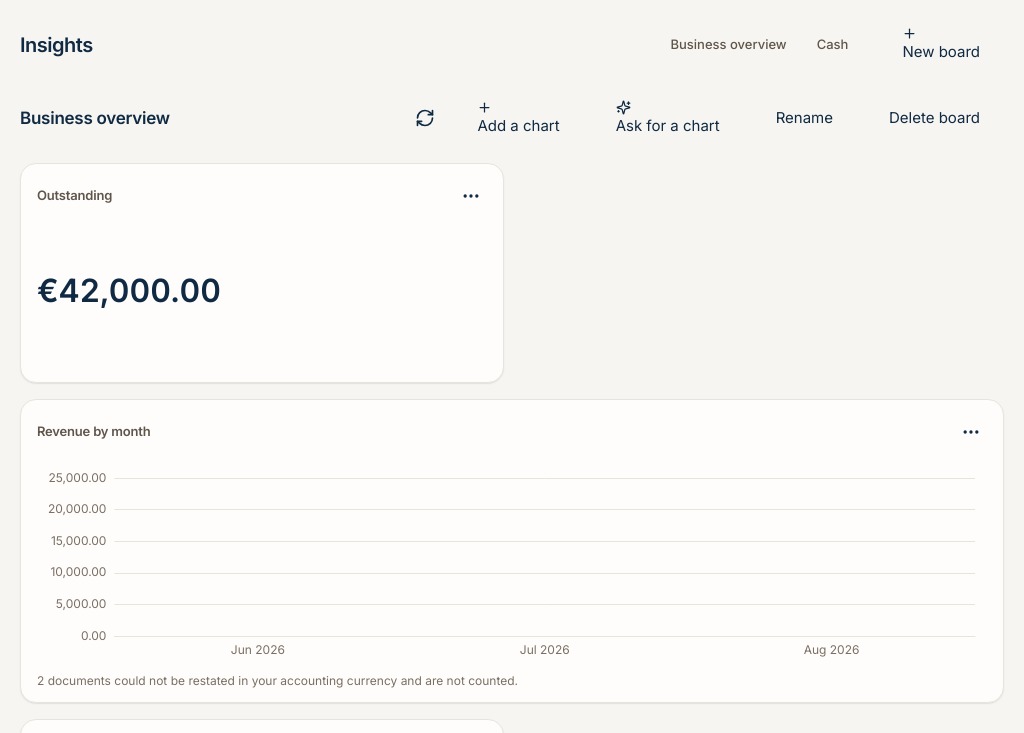
Test: the ask › a question that could not be charted says so, with nothing drawn
The image size is (1024, 733).
expect the text "€42,000.00" is shown: met, box [37, 273, 221, 309]
Step 1. Click the button "Ask for a chart" → point(668, 118), box [592, 90, 744, 147]
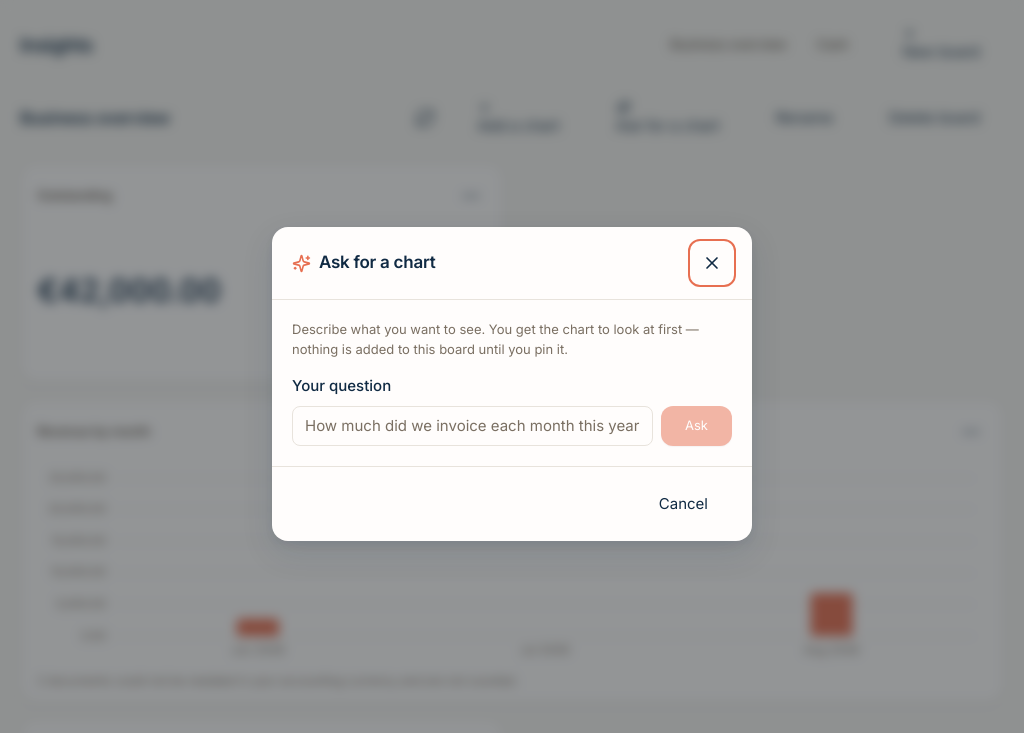
expect the dialog is shown: met, box [272, 227, 752, 541]
Step 2. Type "what is the weather tomorrow?" into the field labelled "Your question" → point(472, 426), box [292, 406, 653, 446]
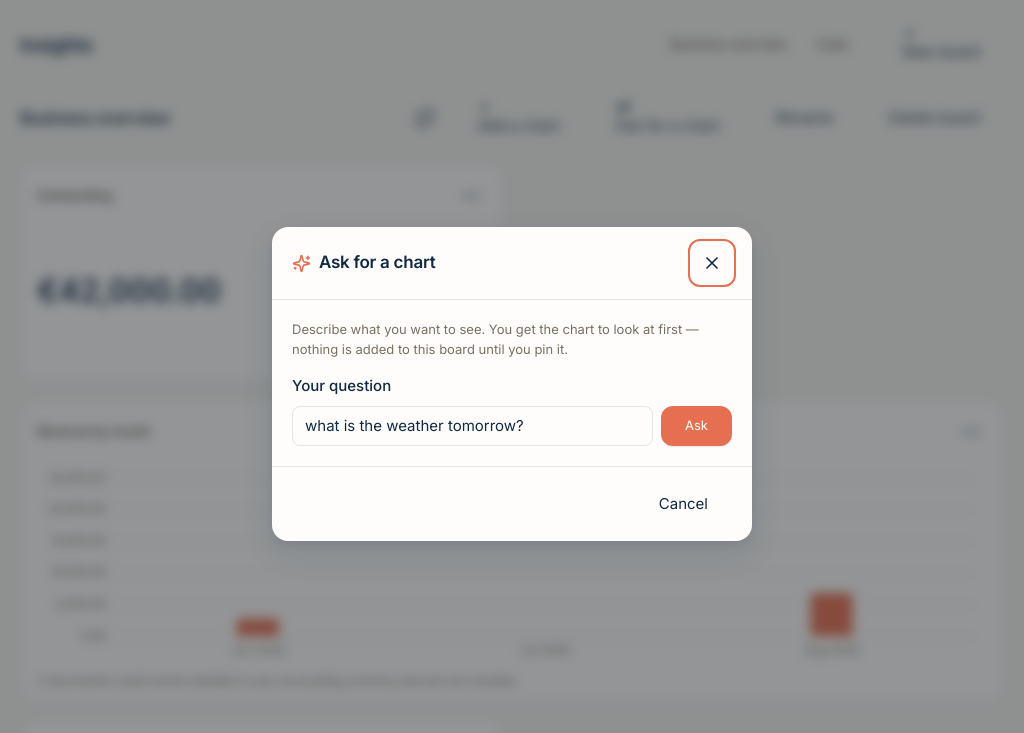
Step 3. Click the button "Ask" → point(696, 426), box [661, 406, 732, 446]
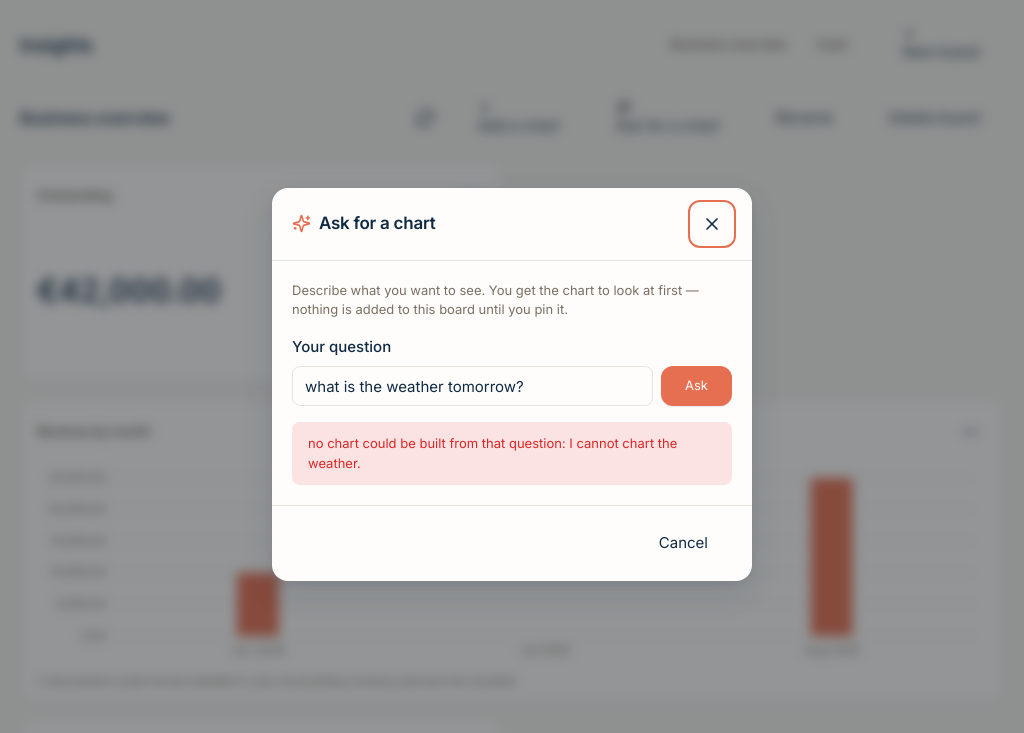
expect the text "no chart could be built from that question: I cannot chart the weather." is shown: met, box [292, 422, 732, 485]
